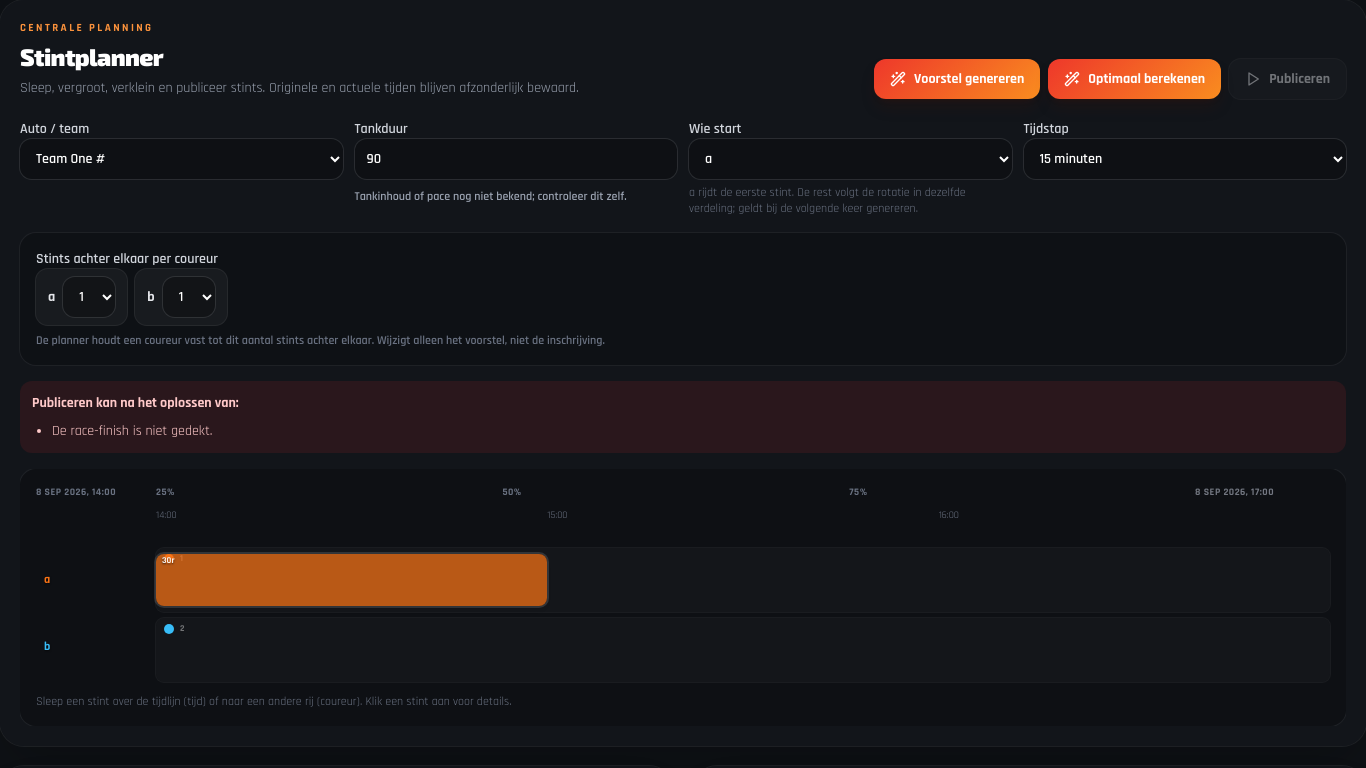
Test: laat de manager kiezen wie start en schuift daarmee de rijvolgorde door
Select "b" in the dropdown labelled "Wie start" at (850, 159), box 689,139 -> 1012,179
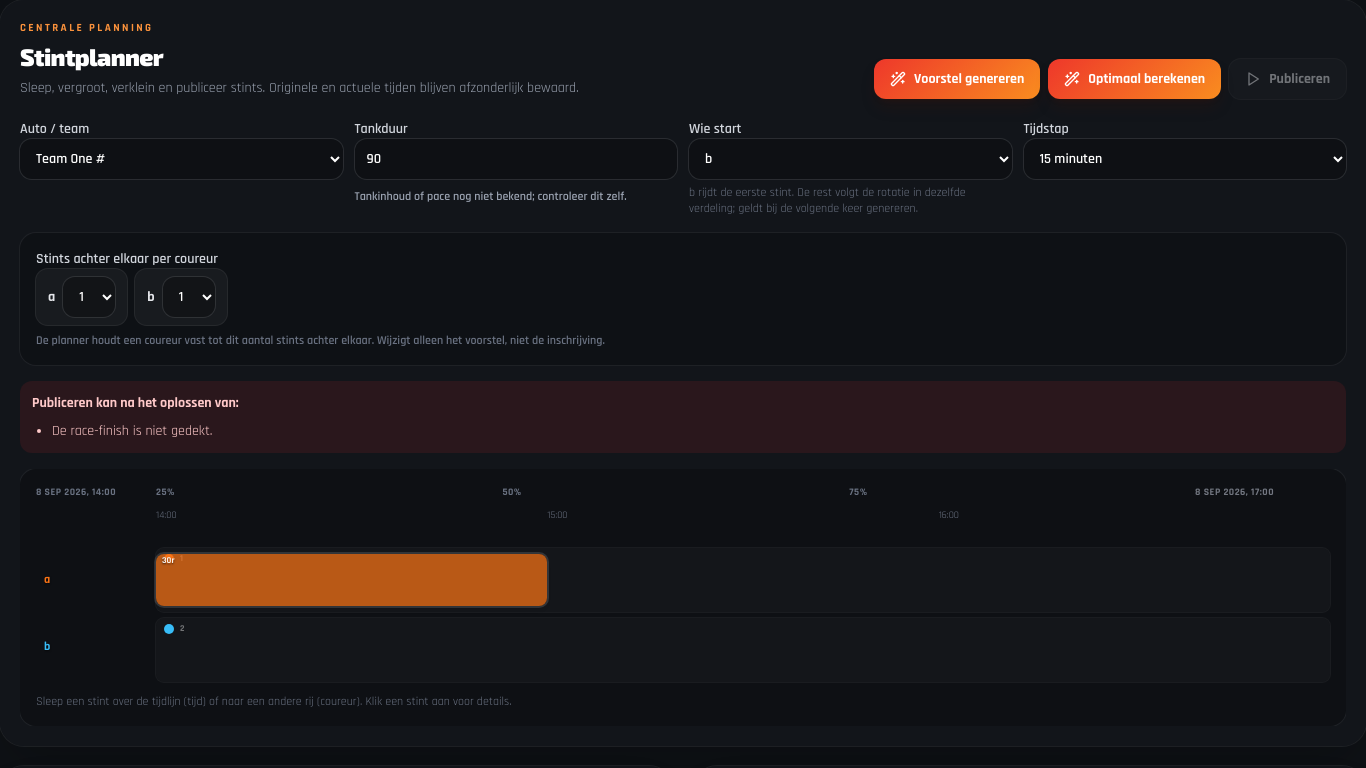
Click the button "Voorstel genereren".
click(957, 79)  # box 874,59 -> 1040,99
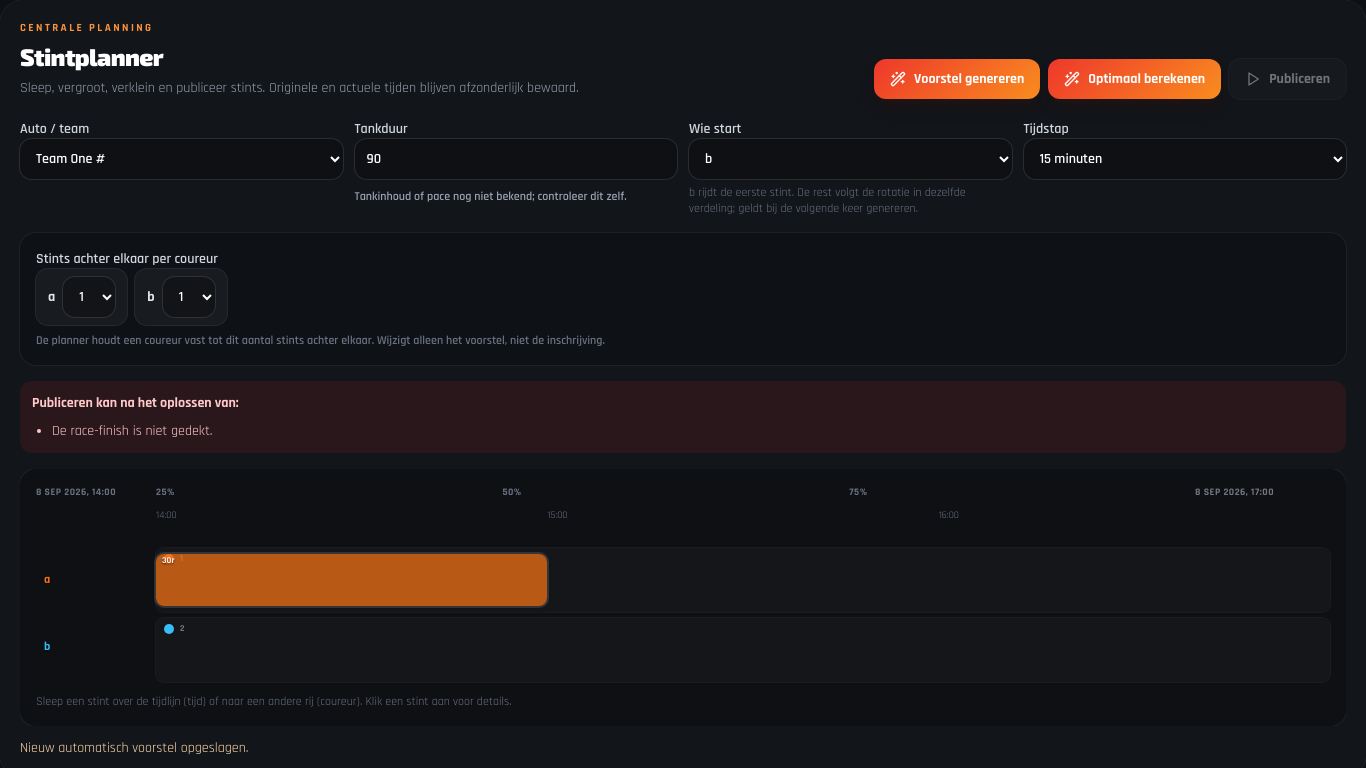
Result: the text "Nieuw automatisch voorstel opgeslagen." is shown at 20,739 -> 248,757
